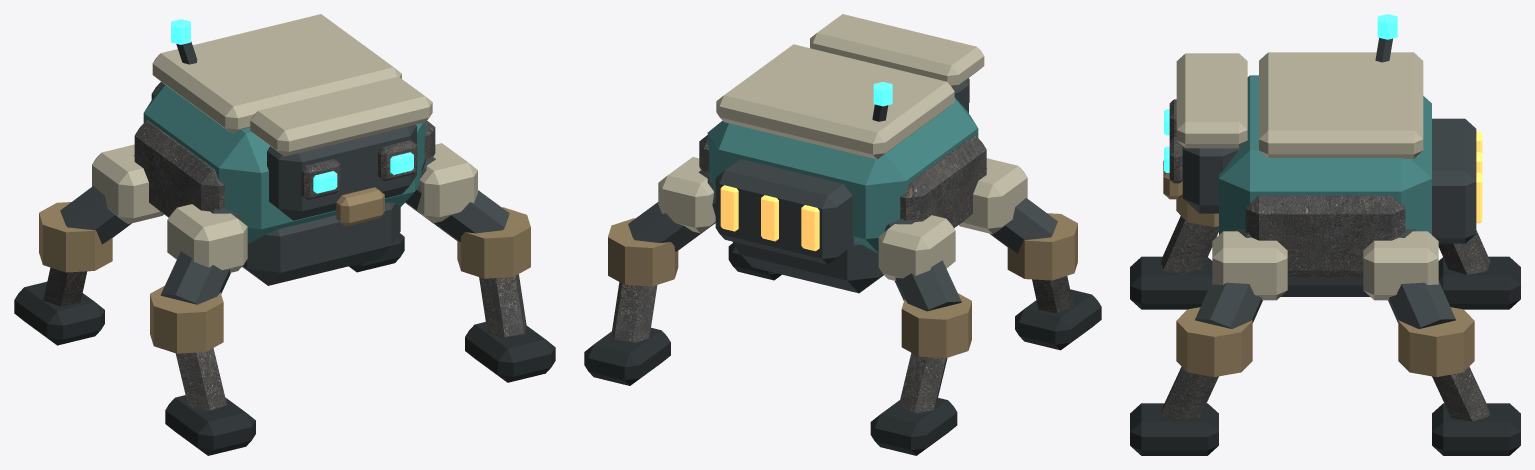
The model's file is tallow.glb.
The picture shows the model from 3 angles, left to right: view 1: azimuth 30°, elevation 25°; view 2: azimuth 150°, elevation 25°; view 3: azimuth 270°, elevation 25°; orthographic projection. The views are drawn at different scales.
Parts seen in each view (by area): view 1: Tallow_Body | Scout chalk enamel, Tallow_Body | Scout oxidized teal, Tallow_Head | Scout chalk enamel, Tallow_Body | Blackened iron, Tallow_Head | Blackened iron, Tallow_Body | Forged stormsteel, Tallow_Leg_FL | Scout chalk enamel, Tallow_Leg_FL | Old brass inlay, Tallow_Leg_FR | Old brass inlay, Tallow_Leg_FL | Rubber and undersuit, Tallow_Leg_FR | Rubber and undersuit, Tallow_Leg_BL | Rubber and undersuit (+13 smaller); view 2: Tallow_Body | Scout chalk enamel, Tallow_Body | Blackened iron, Tallow_Body | Scout oxidized teal, Tallow_Head | Scout chalk enamel, Tallow_Body | Forged stormsteel, Tallow_Leg_BL | Scout chalk enamel, Tallow_Leg_BL | Old brass inlay, Tallow_Leg_BR | Old brass inlay, Tallow_Leg_BL | Rubber and undersuit, Tallow_Leg_BR | Rubber and undersuit, Tallow_Leg_FL | Scout chalk enamel, Tallow_Leg_FL | Rubber and undersuit (+10 smaller); view 3: Tallow_Body | Scout chalk enamel, Tallow_Body | Scout oxidized teal, Tallow_Body | Forged stormsteel, Tallow_Body | Blackened iron, Tallow_Head | Scout chalk enamel, Tallow_Leg_BR | Scout chalk enamel, Tallow_Leg_FR | Scout chalk enamel, Tallow_Leg_BR | Old brass inlay, Tallow_Leg_FR | Old brass inlay, Tallow_Leg_BR | Rubber and undersuit, Tallow_Leg_FR | Rubber and undersuit, Tallow_Leg_BL | Rubber and undersuit (+13 smaller).
Part boxes in pixels (x1,y1,x2,y2): Tallow_Body | Scout chalk enamel: [152, 14, 401, 133]; Tallow_Body | Scout oxidized teal: [143, 84, 426, 243]; Tallow_Head | Scout chalk enamel: [250, 76, 432, 156]; Tallow_Body | Blackened iron: [151, 41, 400, 285]; Tallow_Head | Blackened iron: [267, 124, 416, 220]; Tallow_Body | Forged stormsteel: [134, 120, 435, 217]; Tallow_Leg_FL | Scout chalk enamel: [167, 204, 247, 272]; Tallow_Leg_FL | Old brass inlay: [150, 285, 223, 353]; Tallow_Leg_FR | Old brass inlay: [457, 207, 530, 278]; Tallow_Leg_FL | Rubber and undersuit: [165, 395, 255, 455]; Tallow_Leg_FR | Rubber and undersuit: [465, 322, 555, 382]; Tallow_Leg_BL | Rubber and undersuit: [14, 281, 104, 345]; Tallow_Body | Scout chalk enamel: [716, 44, 954, 159]; Tallow_Body | Blackened iron: [715, 104, 888, 293]; Tallow_Body | Scout oxidized teal: [707, 97, 978, 253]; Tallow_Head | Scout chalk enamel: [810, 14, 984, 88]; Tallow_Body | Forged stormsteel: [699, 135, 986, 227]; Tallow_Leg_BL | Scout chalk enamel: [878, 215, 955, 280]; Tallow_Leg_BL | Old brass inlay: [901, 293, 971, 358]; Tallow_Leg_BR | Old brass inlay: [608, 218, 678, 286]; Tallow_Leg_BL | Rubber and undersuit: [870, 398, 957, 455]; Tallow_Leg_BR | Rubber and undersuit: [584, 327, 670, 385]; Tallow_Leg_FL | Scout chalk enamel: [959, 158, 1027, 234]; Tallow_Leg_FL | Rubber and undersuit: [1015, 289, 1101, 350]; Tallow_Body | Scout chalk enamel: [1259, 52, 1423, 158]; Tallow_Body | Scout oxidized teal: [1219, 75, 1431, 234]; Tallow_Body | Forged stormsteel: [1245, 195, 1405, 277]; Tallow_Body | Blackened iron: [1281, 38, 1476, 296]; Tallow_Head | Scout chalk enamel: [1176, 53, 1247, 148]; Tallow_Leg_BR | Scout chalk enamel: [1363, 231, 1438, 300]; Tallow_Leg_FR | Scout chalk enamel: [1212, 231, 1287, 300]; Tallow_Leg_BR | Old brass inlay: [1398, 307, 1474, 376]; Tallow_Leg_FR | Old brass inlay: [1176, 307, 1252, 376]; Tallow_Leg_BR | Rubber and undersuit: [1432, 403, 1520, 455]; Tallow_Leg_FR | Rubber and undersuit: [1130, 403, 1218, 455]; Tallow_Leg_BL | Rubber and undersuit: [1438, 256, 1520, 309].
Bounding box in the file's own units: 0.9418 × 0.7679 × 0.8527.
Materials: 8 (1 with a texture image).
